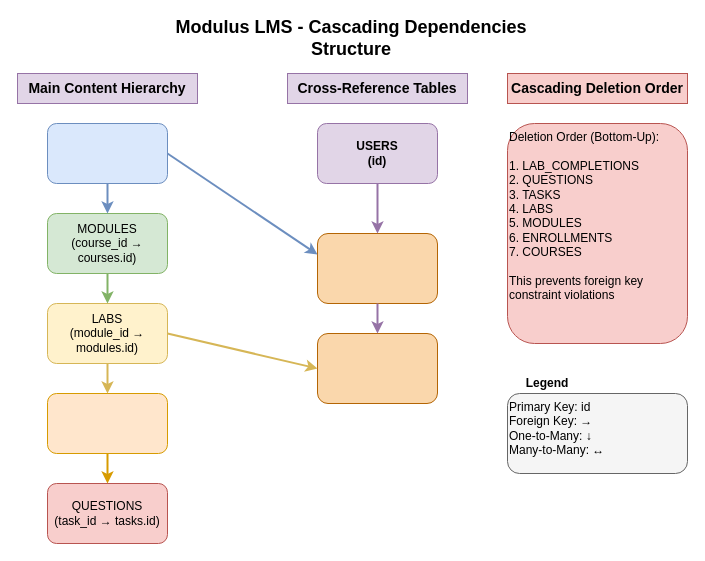
The diagram is 705 pixels wide and 561 high, and some of its shapes have lost their labels. The shapes that lost their labels are listed below. From the top down, each one's centre as x and y in pixels, then its label:
At point (107, 153): "COURSES (id)".
At point (377, 268): "ENROLLMENTS (user_id → users.id) (course_id → courses.id)".
At point (377, 368): "LAB_COMPLETIONS (user_id → users.id) (lab_id → labs.id)".
At point (107, 423): "TASKS (lab_id → labs.id)".
